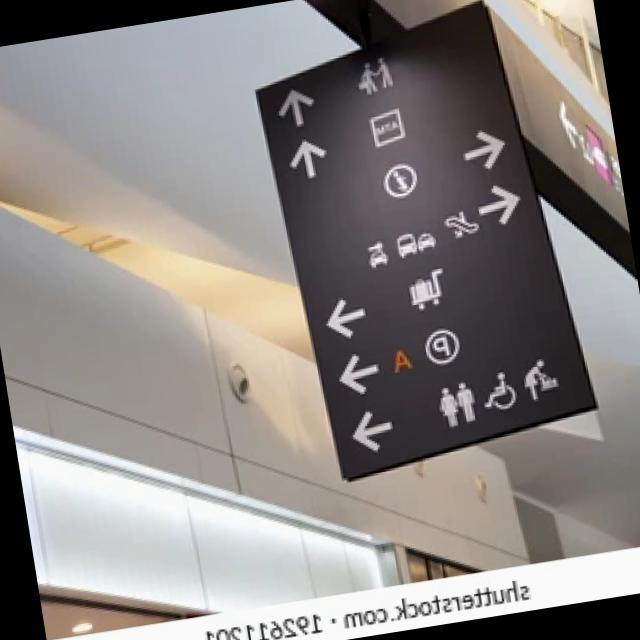toilet_icon: (424, 357, 527, 442)
